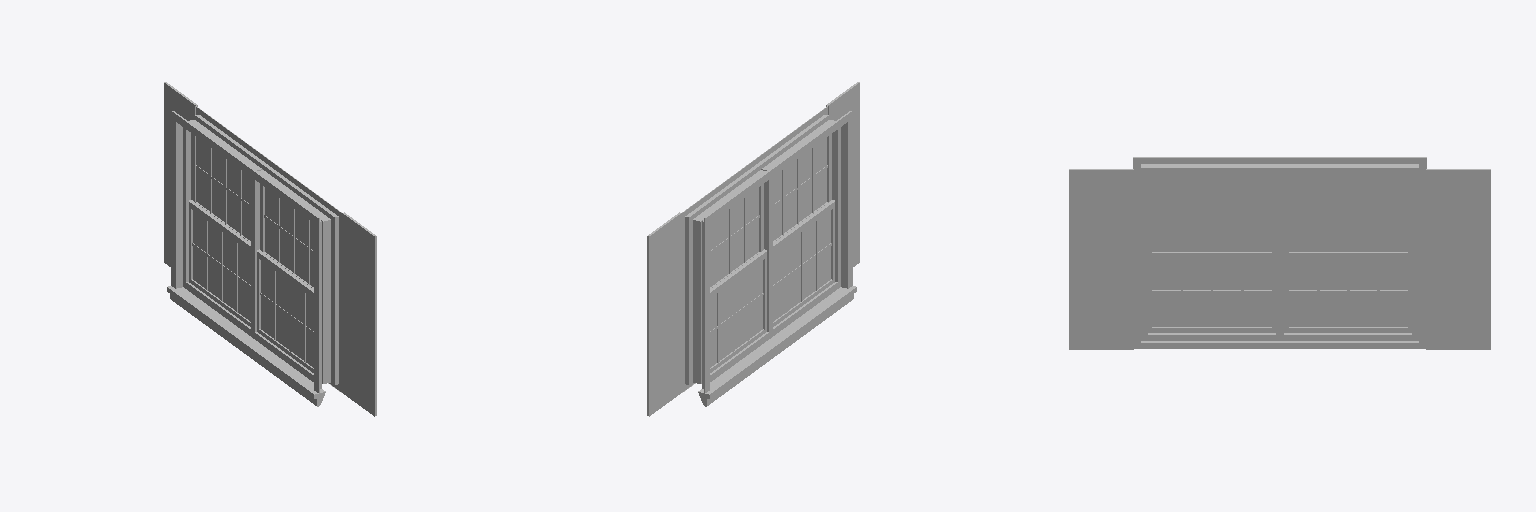
Rendered from big_window.obj.
3 views of the same model, side by side, from view 1: azimuth 30°, elevation 25°; view 2: azimuth 150°, elevation 25°; view 3: azimuth 270°, elevation 25° (orthographic).
Parts seen in each view (by area): view 1: SM_Window_wide, SM_Window_wide_glass, SM_Window_wide_Leaf01_glass, SM_Window_wide_leaf02_glass, SM_Window_wide_Leaf01, SM_Window_wide_Leaf02; view 2: SM_Window_wide, SM_Window_wide_glass, SM_Window_wide_leaf02_glass, SM_Window_wide_Leaf01_glass, SM_Window_wide_Leaf02, SM_Window_wide_Leaf01; view 3: SM_Window_wide, SM_Window_wide_glass, SM_Window_wide_leaf02_glass, SM_Window_wide_Leaf01_glass, SM_Window_wide_Leaf01, SM_Window_wide_Leaf02.
Part boxes in pixels (left/top/right/bottom): SM_Window_wide: left=164, top=82, right=376, bottom=416; SM_Window_wide_glass: left=196, top=137, right=313, bottom=286; SM_Window_wide_Leaf01_glass: left=193, top=211, right=250, bottom=321; SM_Window_wide_leaf02_glass: left=261, top=261, right=313, bottom=367; SM_Window_wide_Leaf01: left=189, top=200, right=250, bottom=326; SM_Window_wide_Leaf02: left=257, top=249, right=313, bottom=372; SM_Window_wide: left=647, top=82, right=859, bottom=416; SM_Window_wide_glass: left=710, top=138, right=826, bottom=286; SM_Window_wide_leaf02_glass: left=773, top=211, right=830, bottom=321; SM_Window_wide_Leaf01_glass: left=710, top=261, right=762, bottom=367; SM_Window_wide_Leaf02: left=773, top=200, right=834, bottom=326; SM_Window_wide_Leaf01: left=710, top=249, right=766, bottom=372; SM_Window_wide: left=1069, top=157, right=1490, bottom=349; SM_Window_wide_glass: left=1152, top=182, right=1407, bottom=251; SM_Window_wide_leaf02_glass: left=1152, top=259, right=1271, bottom=326; SM_Window_wide_Leaf01_glass: left=1289, top=259, right=1407, bottom=326; SM_Window_wide_Leaf01: left=1284, top=259, right=1411, bottom=332; SM_Window_wide_Leaf02: left=1148, top=259, right=1275, bottom=332.
Size of the model in its own units: 0.2738 by 1.6 by 3.26.